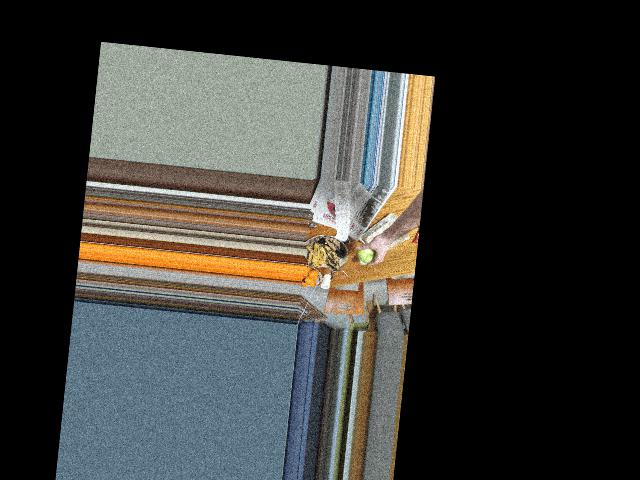apple: (355, 241, 380, 264)
